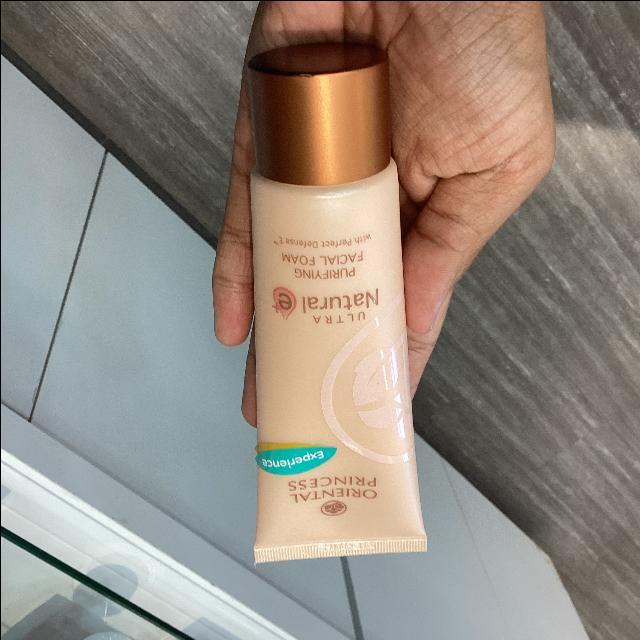Squeeze Tube: (216, 28, 440, 564)
